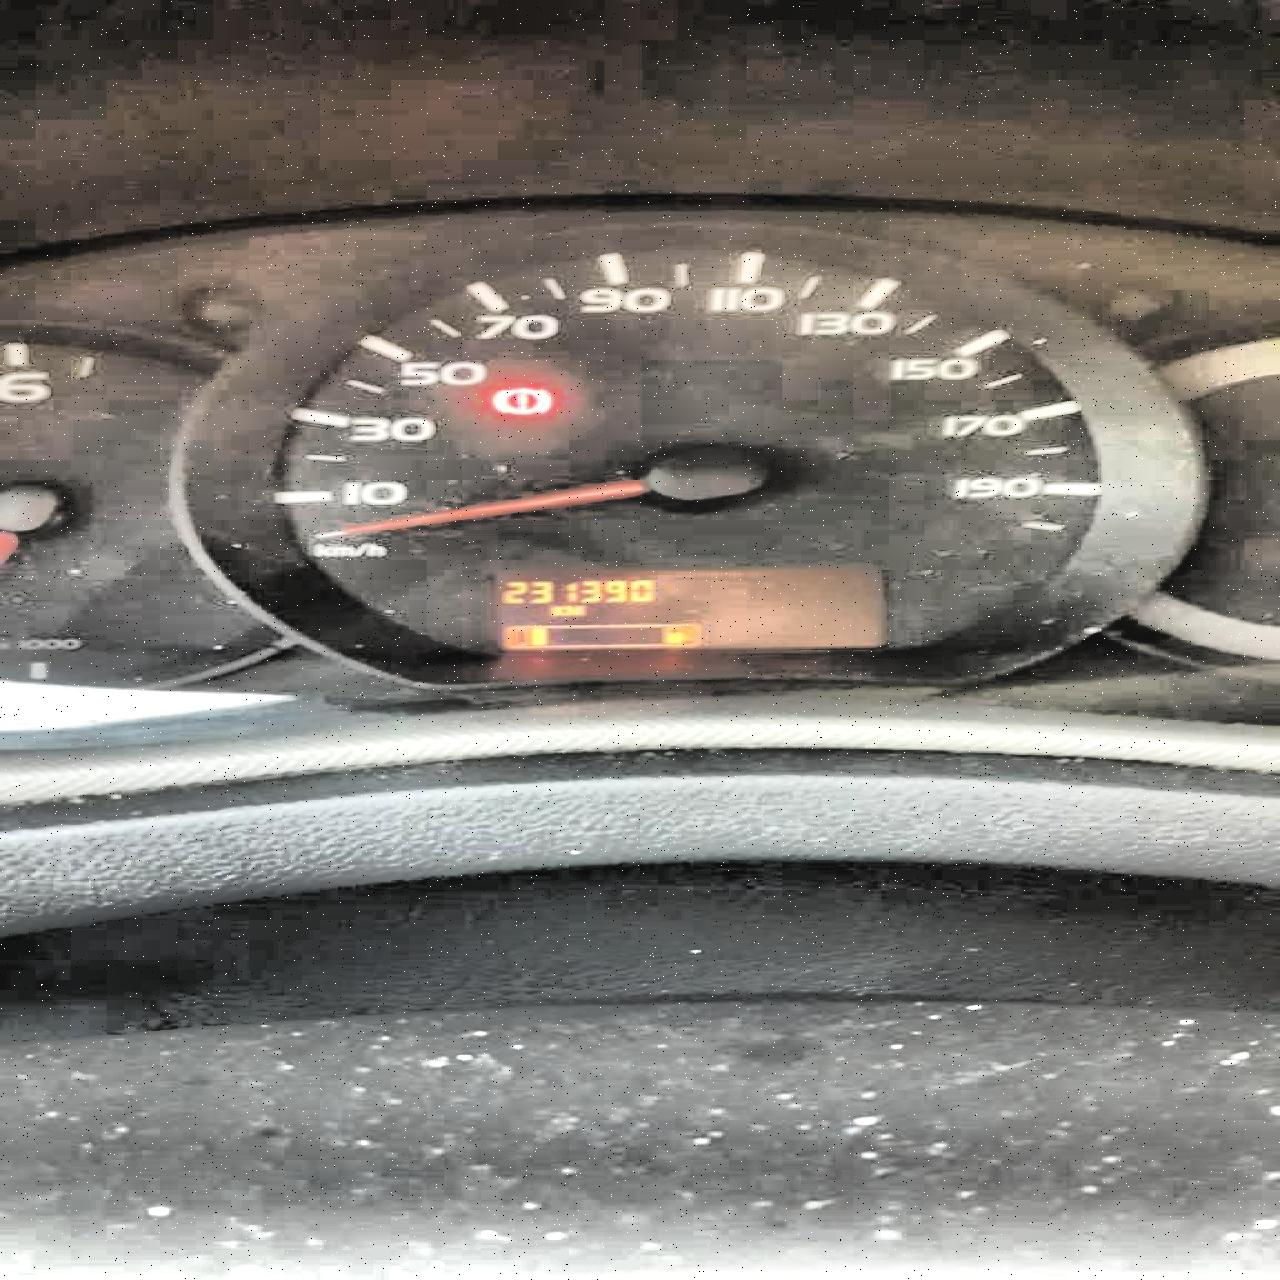0: (627, 578, 653, 601)
1: (560, 580, 576, 601)
2: (498, 580, 524, 602)
3: (576, 579, 600, 602), (526, 580, 551, 602)
9: (602, 579, 627, 601)
X: (546, 604, 565, 617), (565, 604, 585, 615)
odometer: (481, 561, 896, 656)
